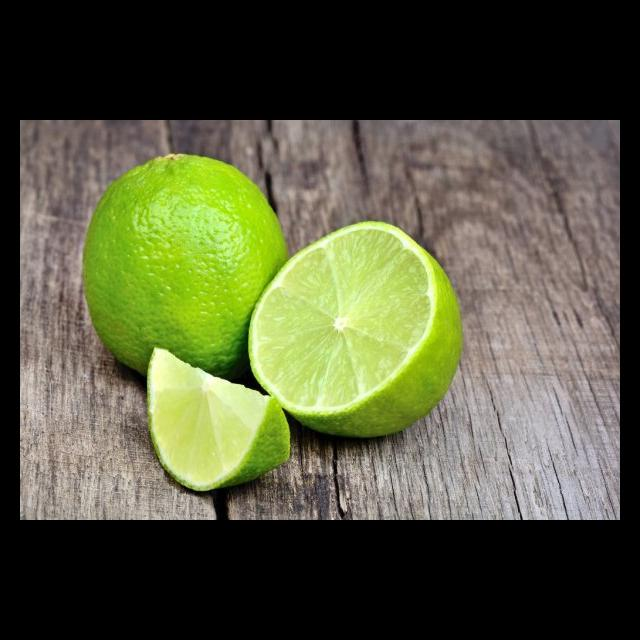lime: (75, 148, 307, 390)
